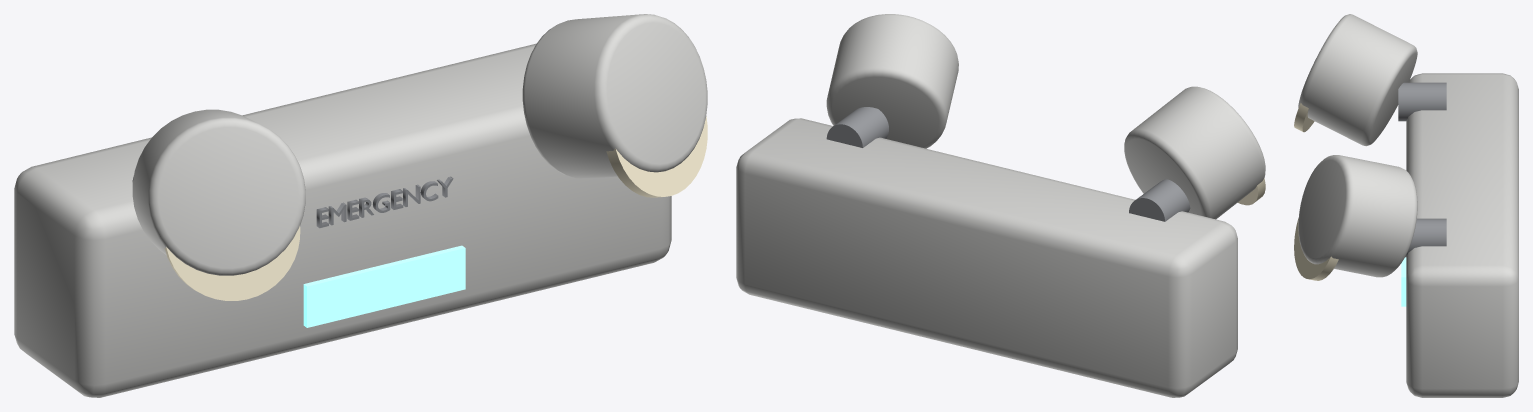
File: EmergencyLight.fbx
3 views of the same model, side by side, from view 1: azimuth 30°, elevation 25°; view 2: azimuth 150°, elevation 25°; view 3: azimuth 270°, elevation 25° (orthographic). The views are drawn at different scales.
Visible parts, largest first — view 1: EmergencyLight; view 2: EmergencyLight; view 3: EmergencyLight.
Boxes of the visible parts, x1=… form: EmergencyLight: x1=14, y1=14, x2=707, y2=397; EmergencyLight: x1=736, y1=14, x2=1265, y2=397; EmergencyLight: x1=1294, y1=14, x2=1518, y2=397.
Size of the model in its own units: 0.3 by 0.1453 by 0.1397.
